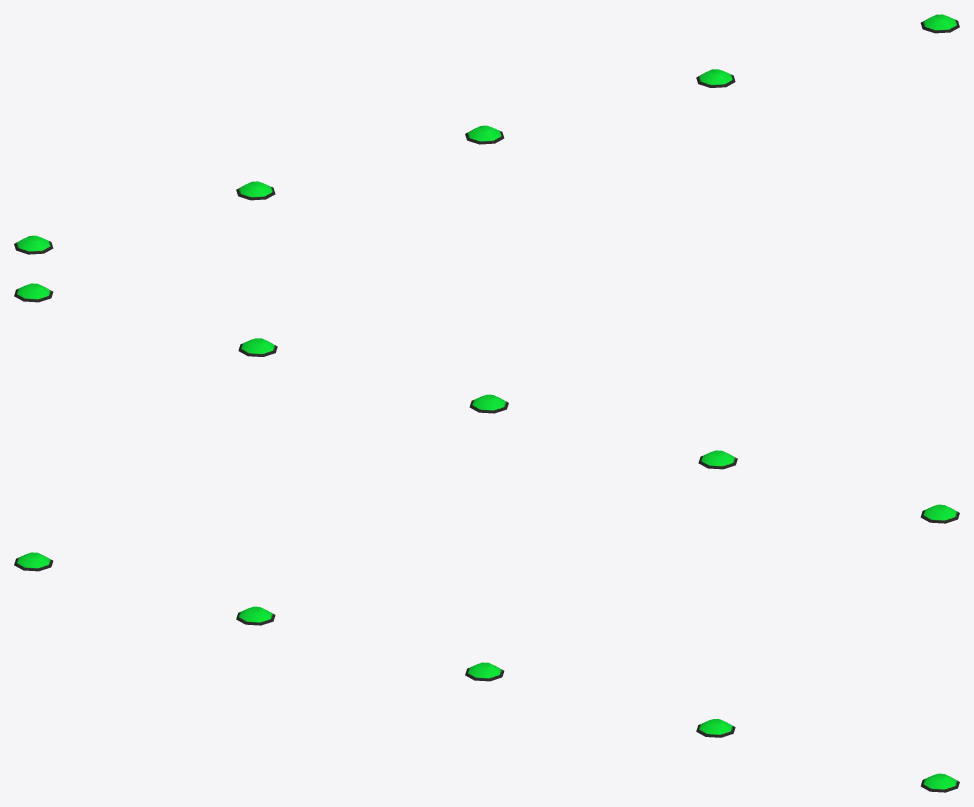
File: defaultconelg.glb
3 renders of one model, top to bottom at view 1: azimuth 30°, elevation 25°; view 2: azimuth 150°, elevation 25°; view 3: azimuth 330°, elevation 25°, orthographic.
Visible parts, largest first — view 1: DefaultConeLG; view 2: DefaultConeLG; view 3: DefaultConeLG.
Part boxes in pixels (x1=…): DefaultConeLG: x1=14, y1=14, x2=959, y2=254; DefaultConeLG: x1=14, y1=283, x2=959, y2=523; DefaultConeLG: x1=14, y1=552, x2=959, y2=792.
Size of the model in its own units: 8.31 by 0.0614 by 0.312.
Materials: 1 (1 with a texture image).
